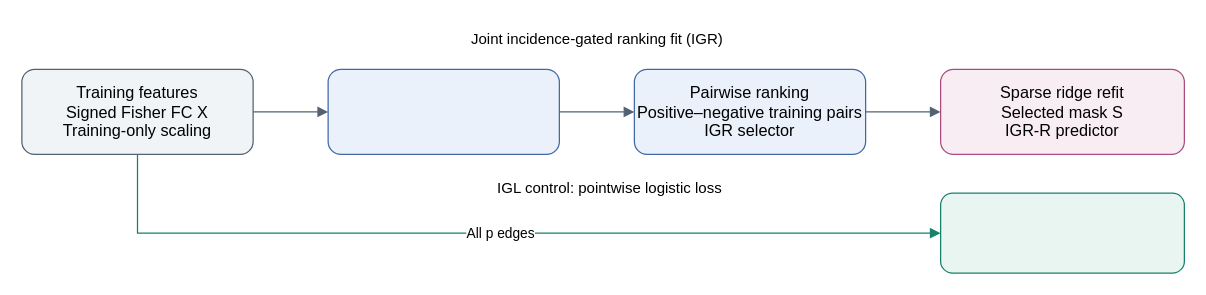
The diagram is 1206 pixels wide and 295 high, and some of its shapes have lost their labels. Each missing label, with the box of its shape:
Dense ridge ranking Pairwise loss + ridge penalty DRR: all p edges: (939, 192, 1184, 273)
Incidence gating |β| ≤ Hᵀz, z ≥ 0 Atlas endpoints H: (327, 68, 559, 154)
